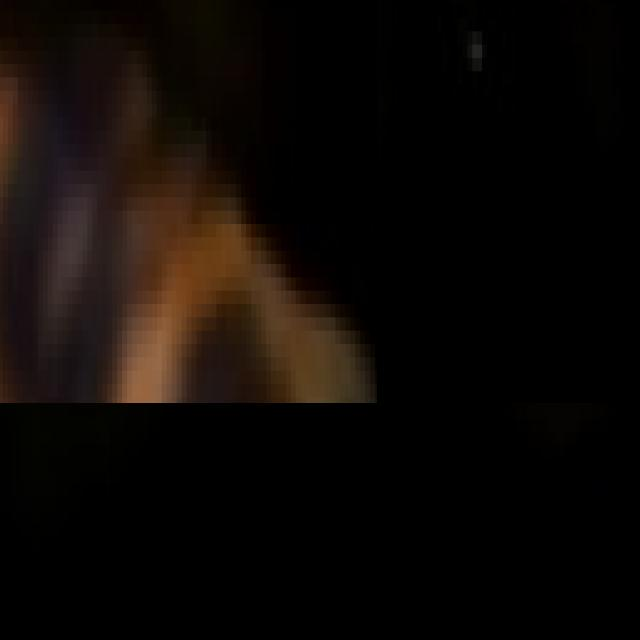fish: (0, 0, 377, 403)
